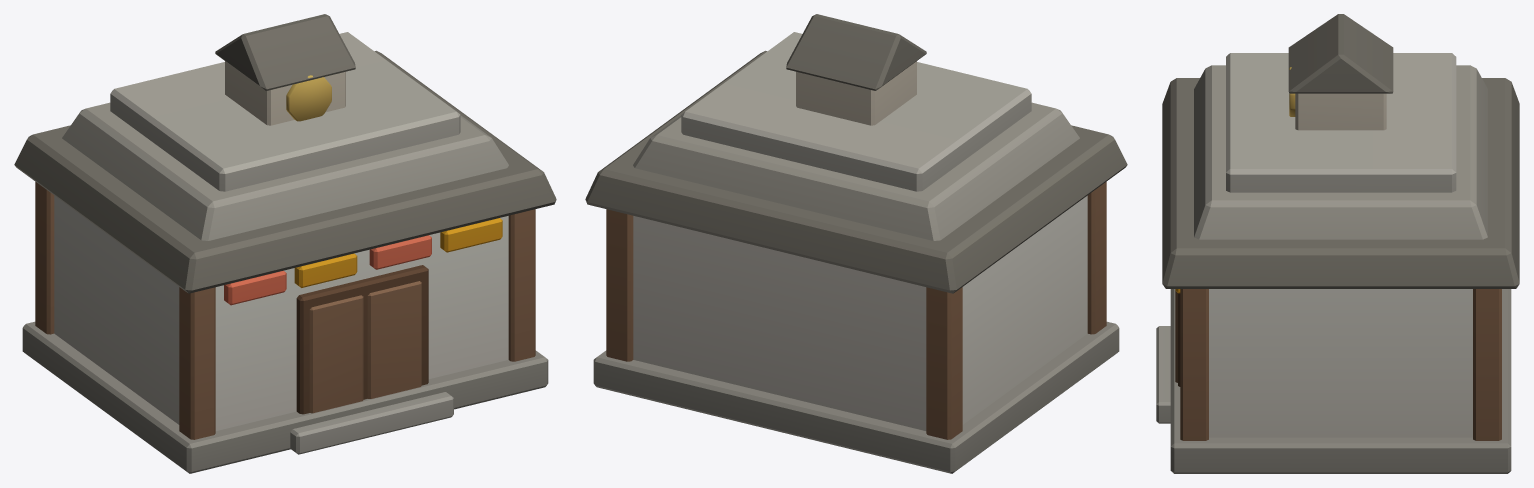
File: plaza-hall.glb
3 renders of one model, left to right at view 1: azimuth 30°, elevation 25°; view 2: azimuth 150°, elevation 25°; view 3: azimuth 270°, elevation 25°, orthographic.
Parts seen in each view (by area): view 1: plaza-hall; view 2: plaza-hall; view 3: plaza-hall.
Boxes of the visible parts, x1,y1,x2,y2 form: plaza-hall: [14, 14, 556, 473]; plaza-hall: [585, 14, 1127, 473]; plaza-hall: [1156, 14, 1519, 473].
Bounding box in the file's own units: 1.8 × 1.6 × 1.5.
